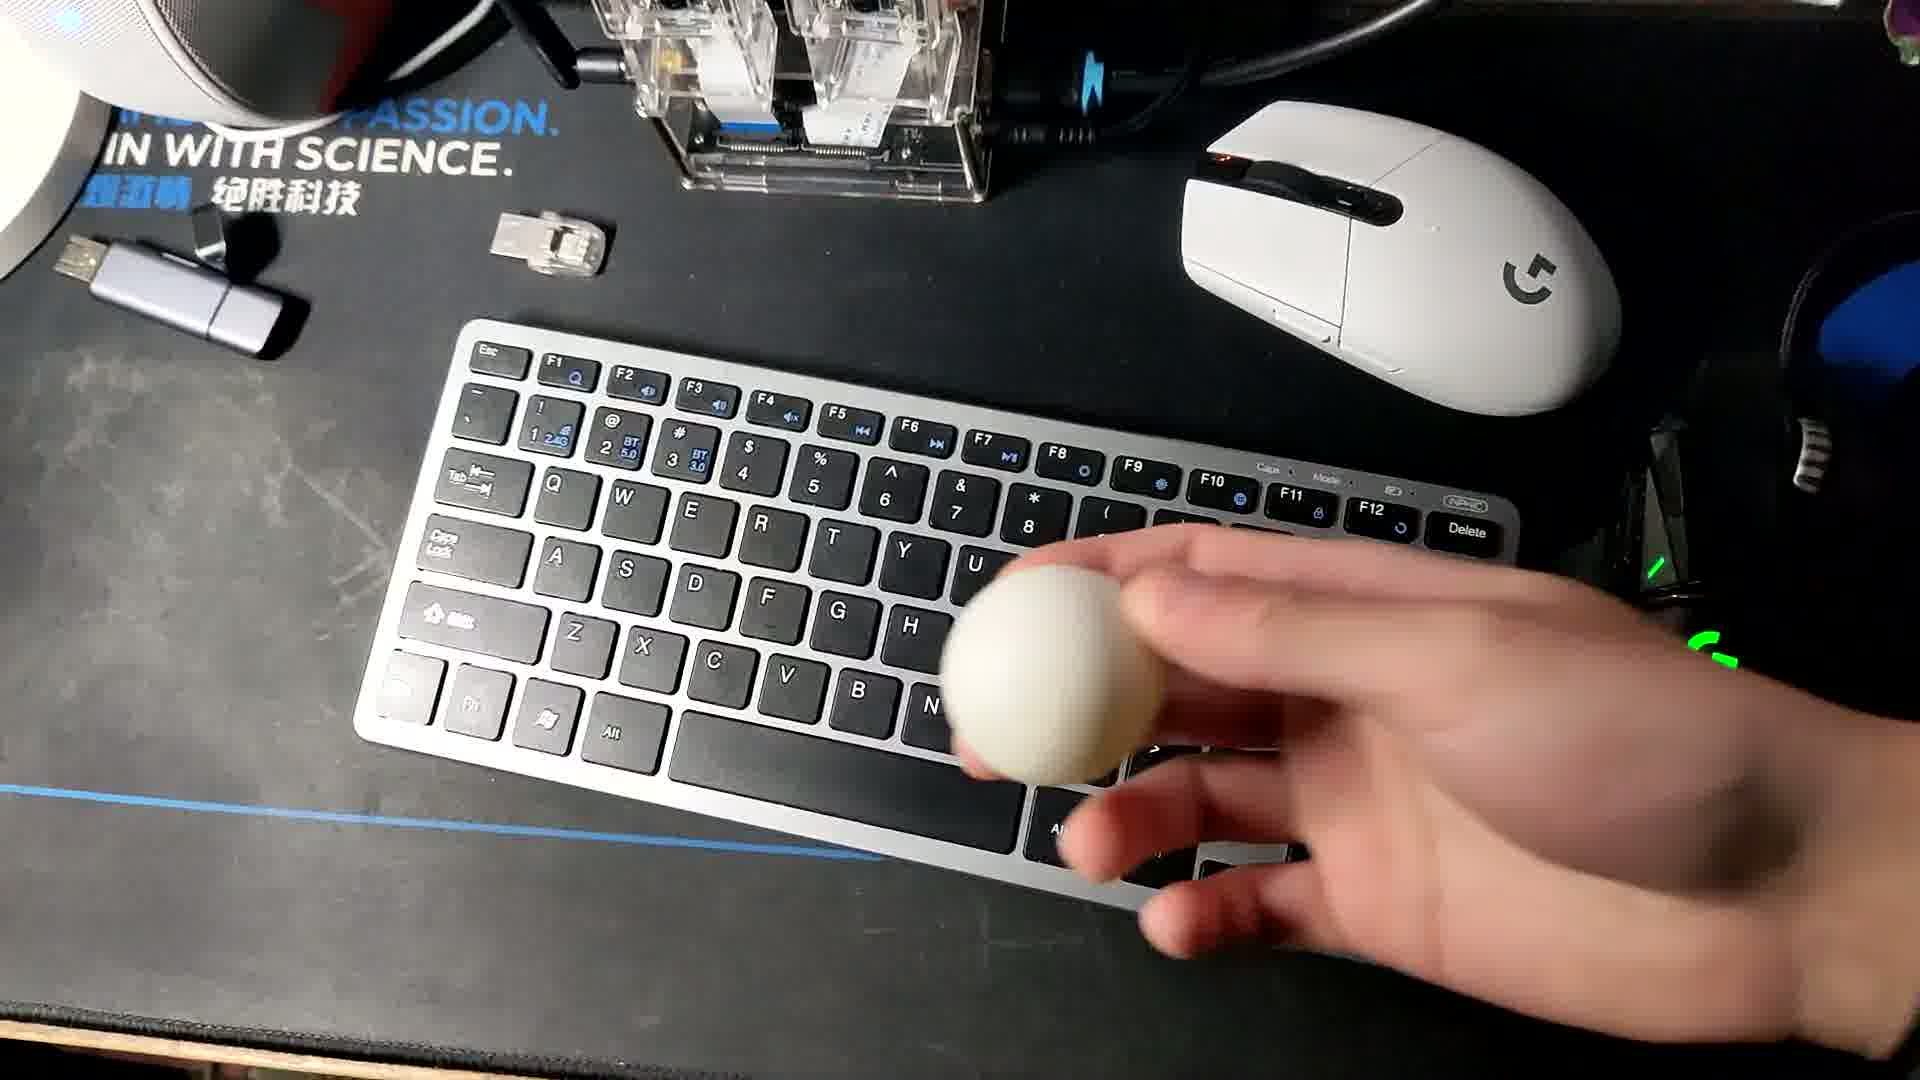Ball: (942, 564, 1160, 789)
